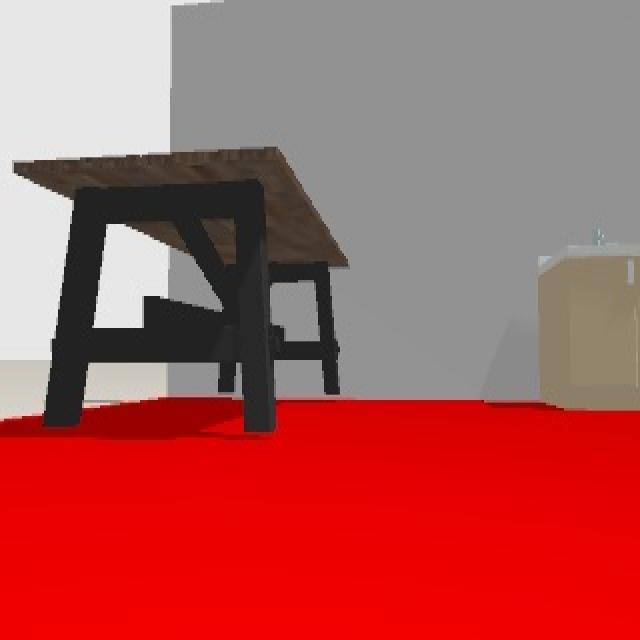dining: (14, 157, 350, 424)
